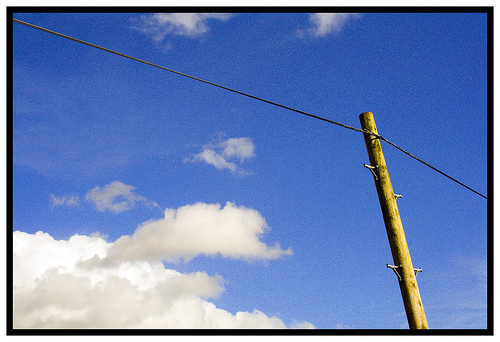pole: (341, 102, 450, 318)
